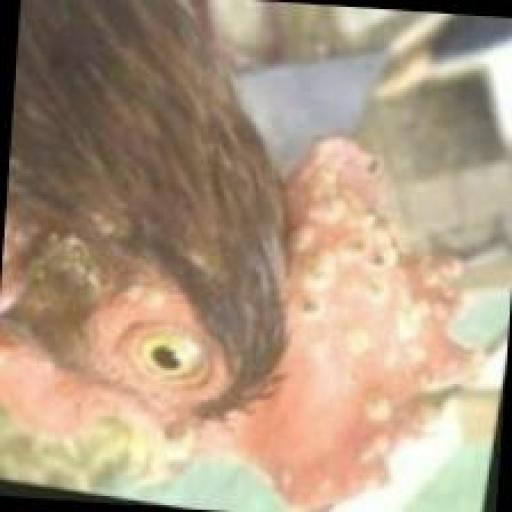disease: (284, 129, 470, 352), (296, 355, 480, 512)
